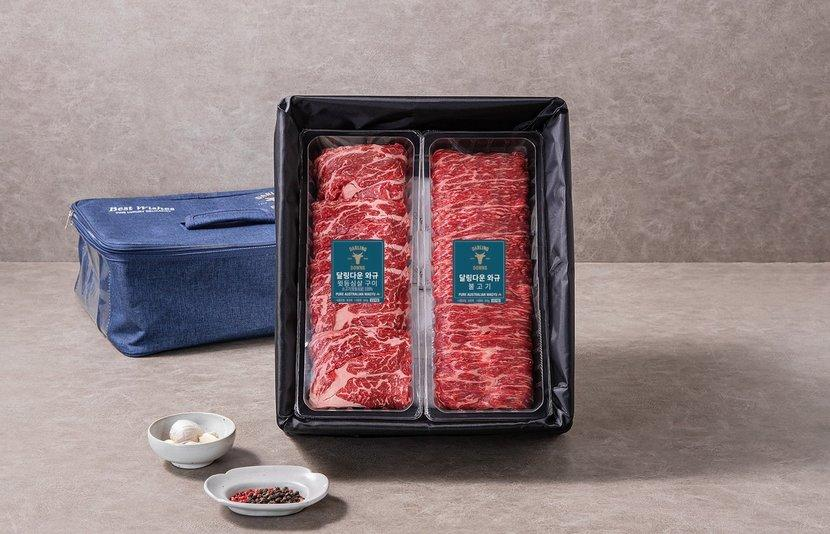beef: (563, 128, 693, 339), (409, 123, 533, 337)
